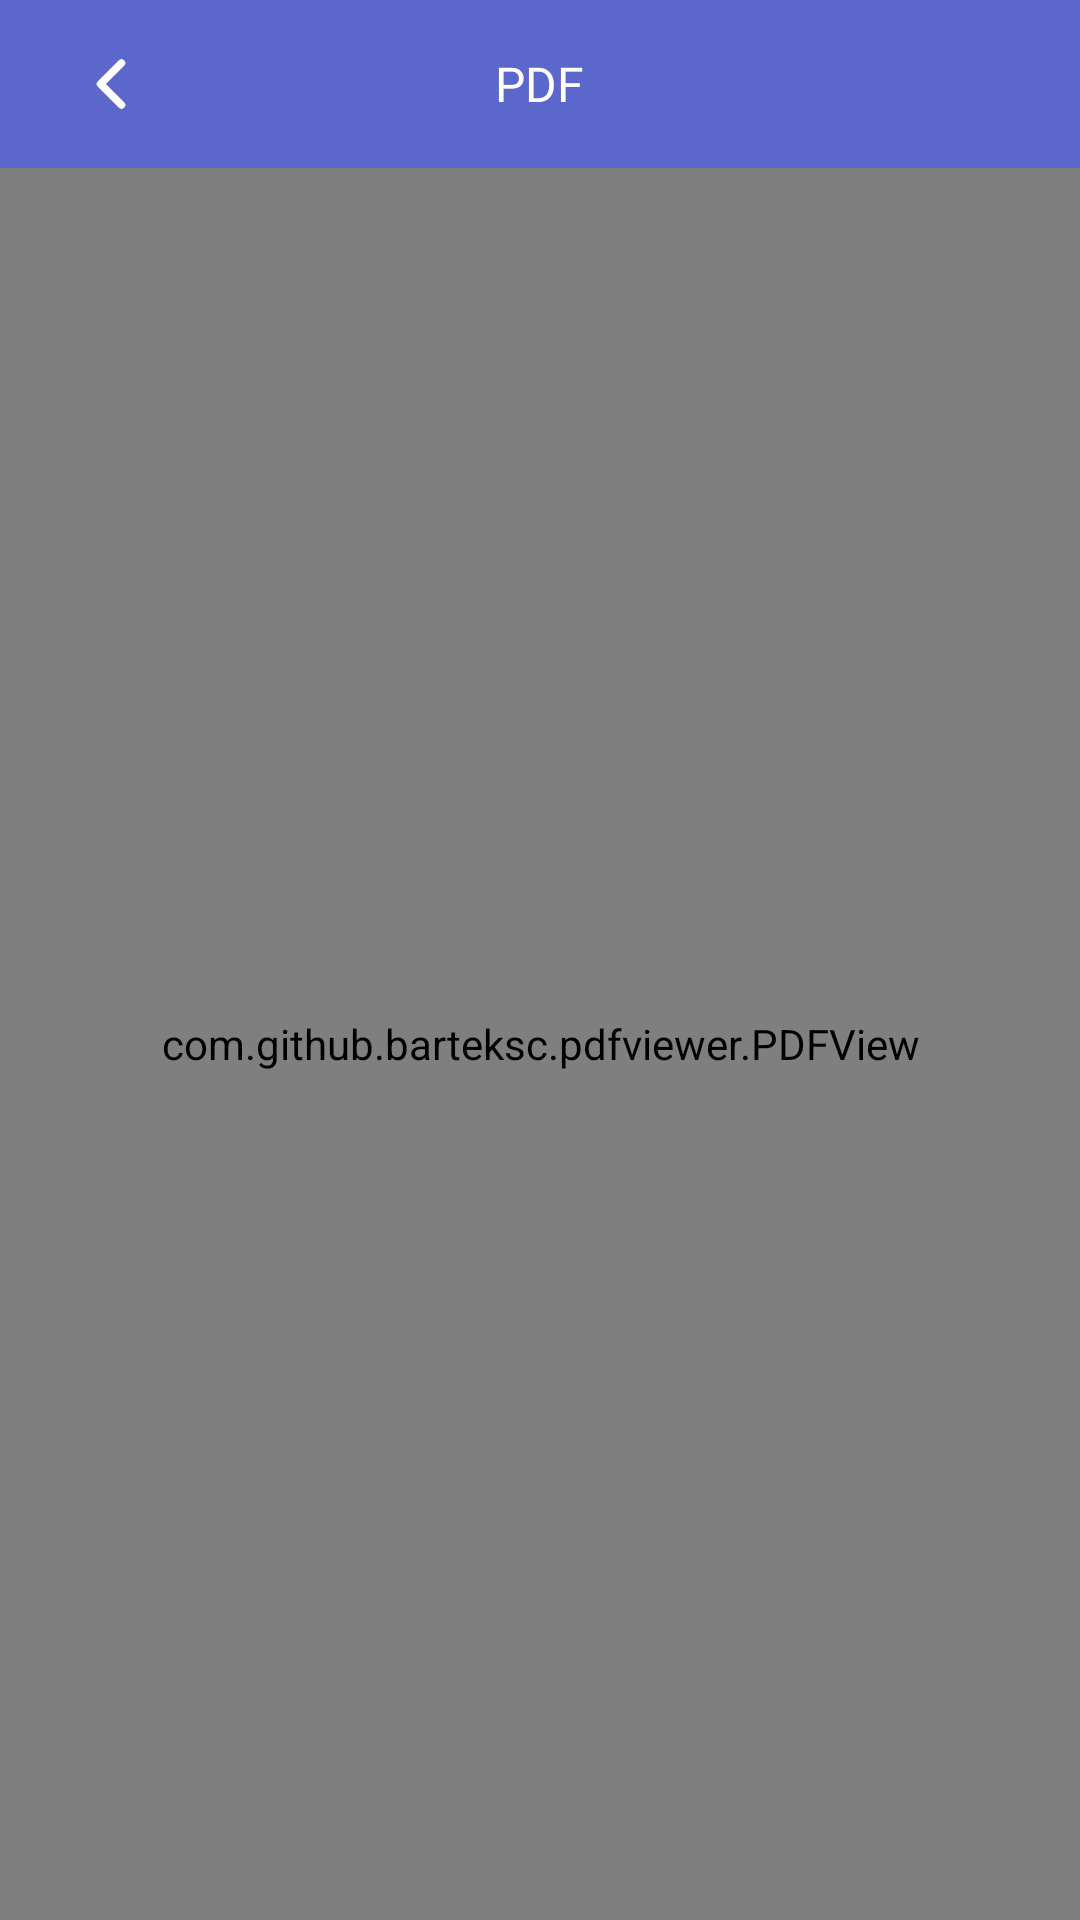

Named icons in this screenshot (1080*1920) and their bounding boxes, {"x1": x1, "y1": y1, "x2": x2, "y2": y2}:
btnback: {"x1": 96, "y1": 59, "x2": 126, "y2": 109}
